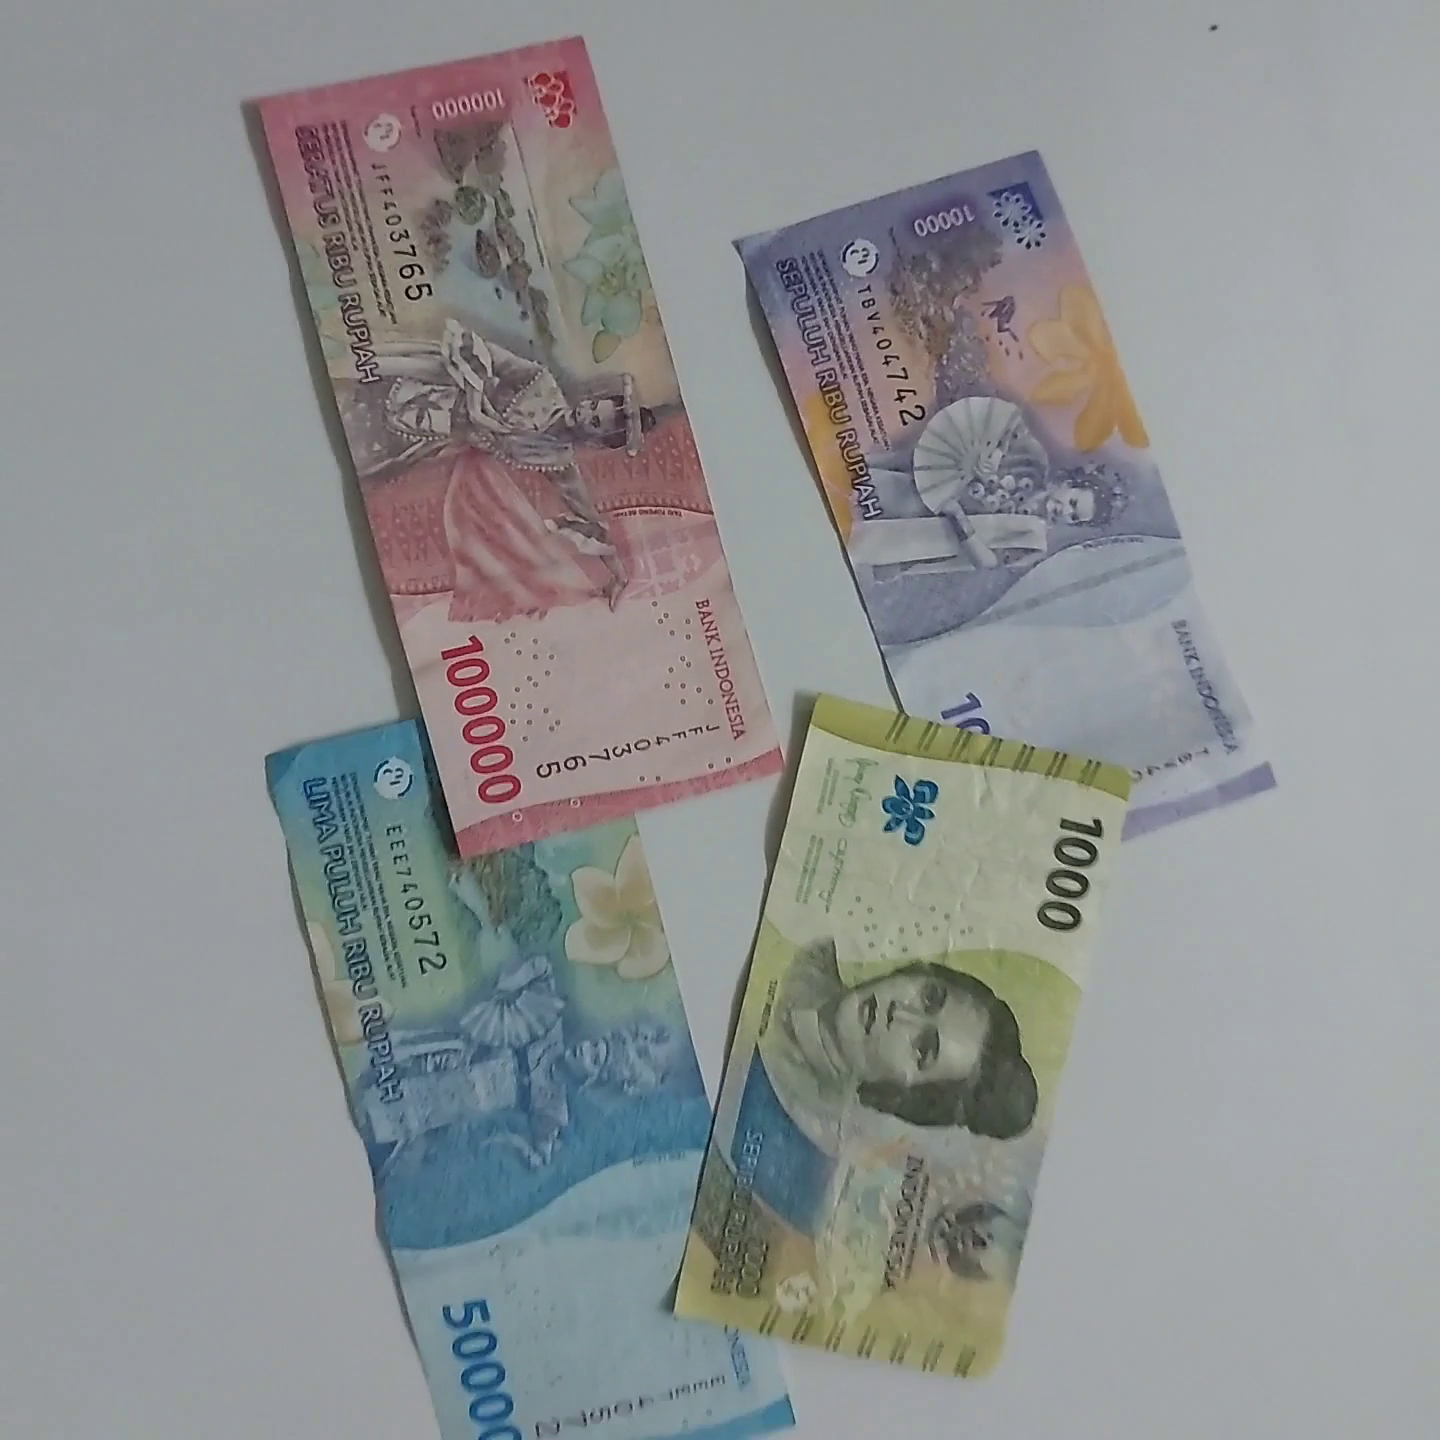100k: (235, 79, 615, 885)
10k: (721, 207, 1104, 952), (1025, 45, 1030, 46)
1k: (686, 690, 1159, 1373)
50k: (224, 591, 795, 1440)
